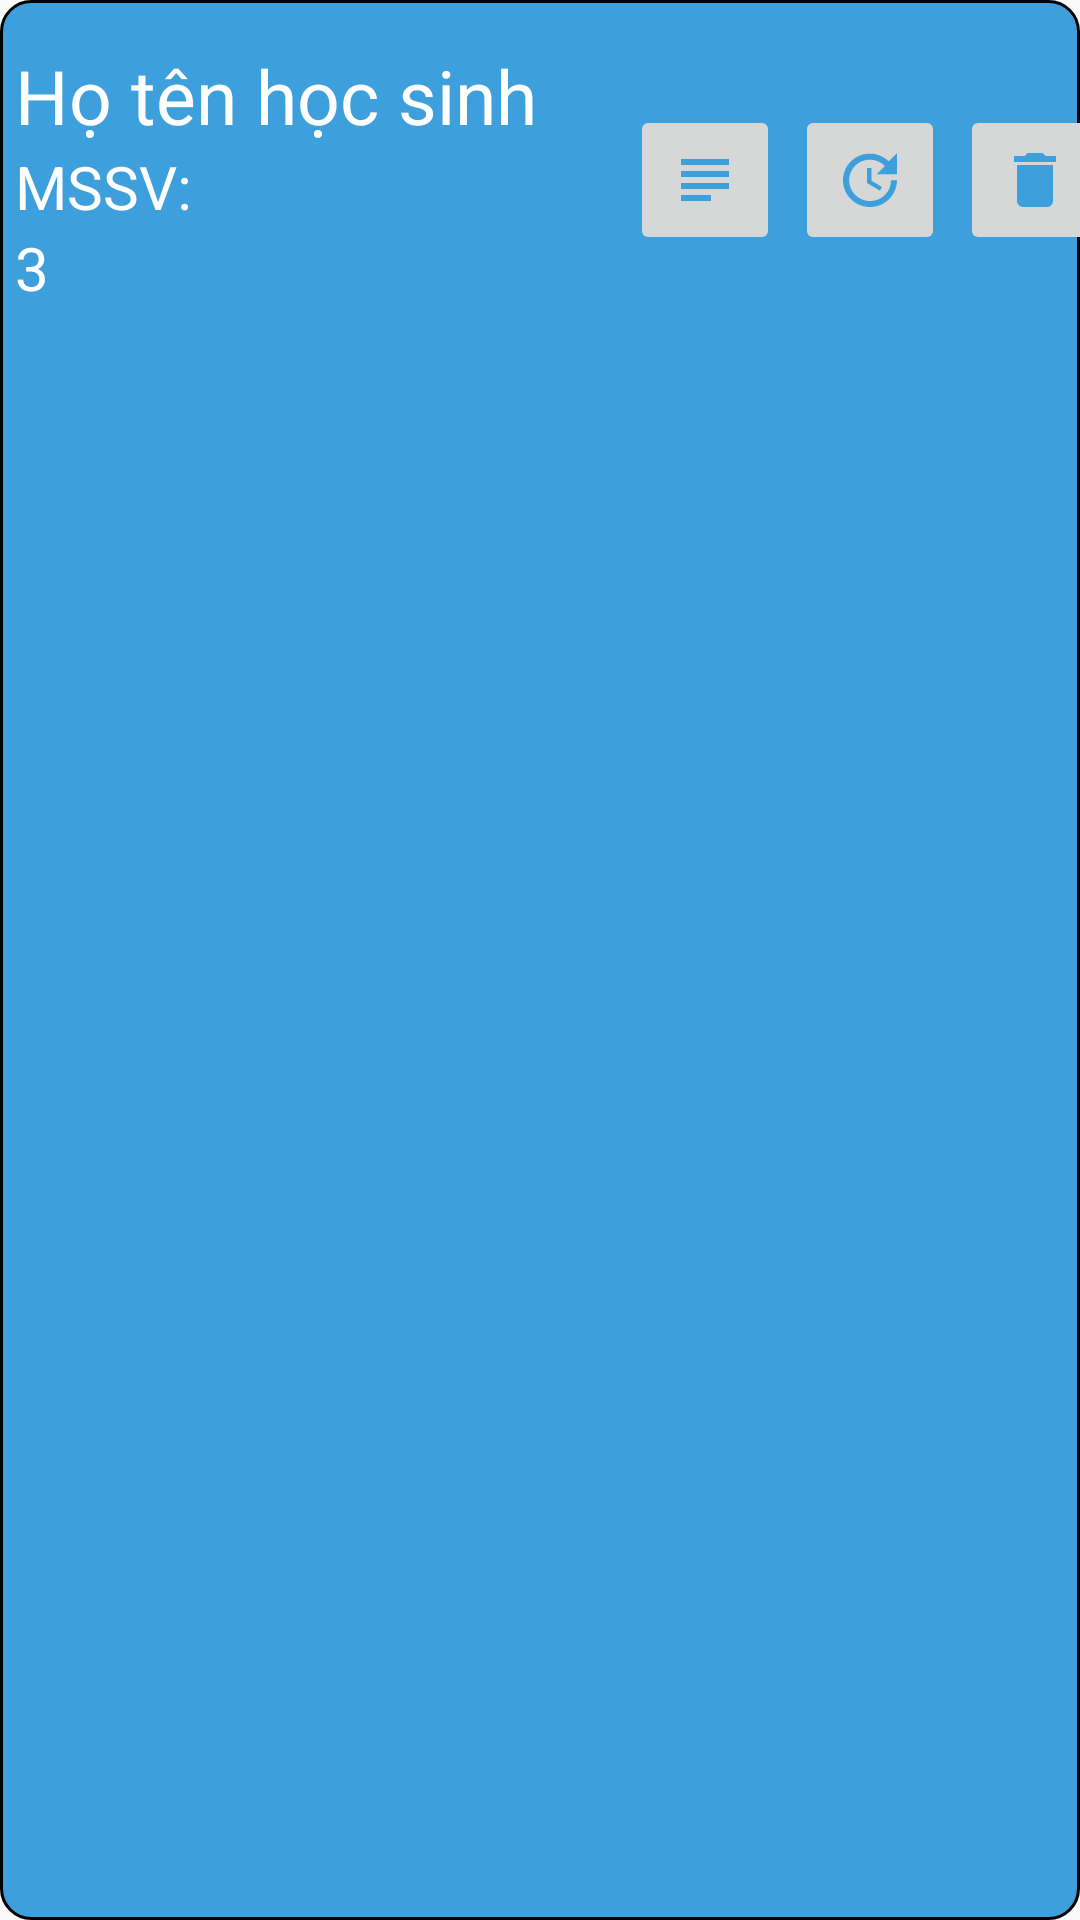

Icon bounding boxes for this 1080×1920 phone screenshot, format Rect(x1, y1, x2, y2):
subject: Rect(642, 123, 768, 237)
update: Rect(807, 123, 933, 237)
